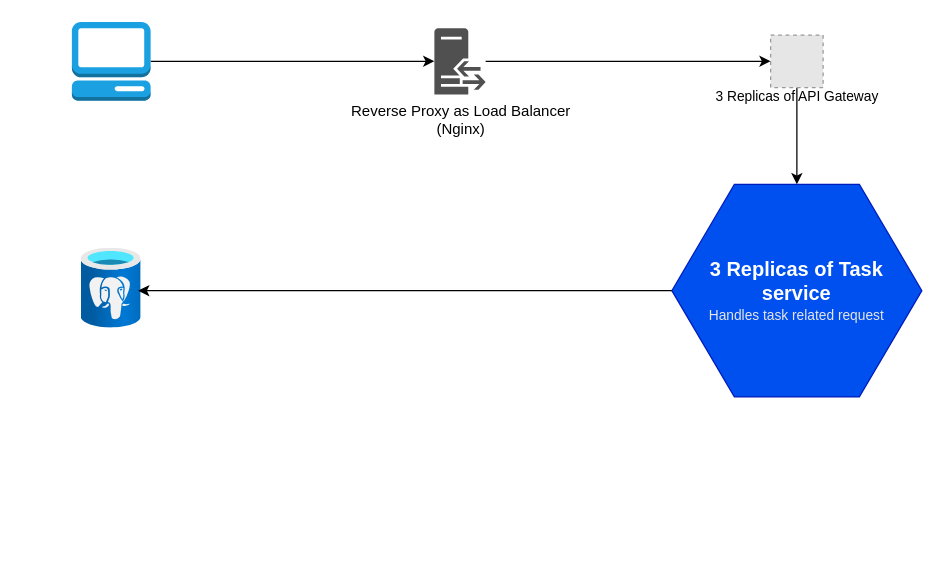
This 944x576 diagram has some shape labels left out. Grey dashed boxes stand in for pictures. Here are the shapes that lost their labels. From the top down, the centre of each, then its label:
At point (111, 61): "Client".
At point (111, 288): "Postgres DB".
